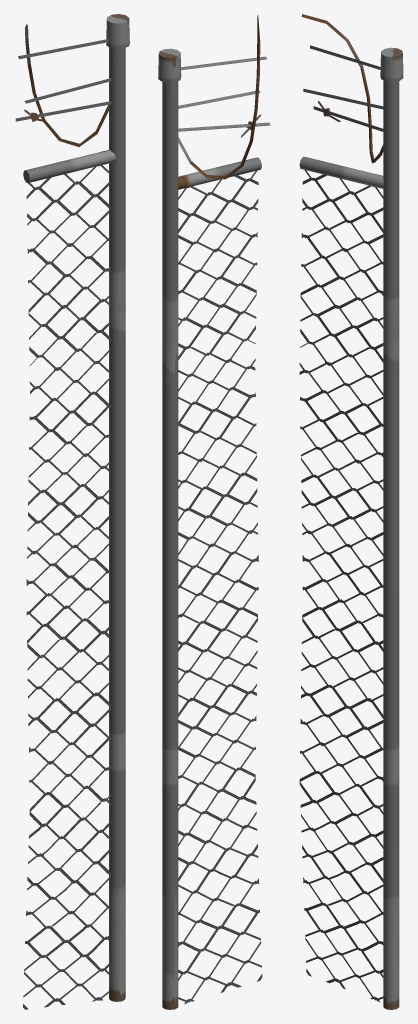
3 views of the same model, side by side, from view 1: azimuth 30°, elevation 25°; view 2: azimuth 210°, elevation 25°; view 3: azimuth 330°, elevation 25° (orthographic). The views are drawn at different scales.
Visible parts, largest first — view 1: body0_model0_lod0_mesh0, body0_model0_lod0_mesh1; view 2: body0_model0_lod0_mesh0, body0_model0_lod0_mesh1; view 3: body0_model0_lod0_mesh0, body0_model0_lod0_mesh1.
Boxes of the visible parts, x1,y1,x2,y2 form: body0_model0_lod0_mesh0: (15,14,129,1001); body0_model0_lod0_mesh1: (23,165,111,1009); body0_model0_lod0_mesh0: (158,15,270,1009); body0_model0_lod0_mesh1: (178,170,262,1004); body0_model0_lod0_mesh0: (299,14,403,1009); body0_model0_lod0_mesh1: (299,170,383,1001).
Size of the model in its own units: 32.2 by 303 by 20.27.
Materials: 2 (2 with a texture image).
